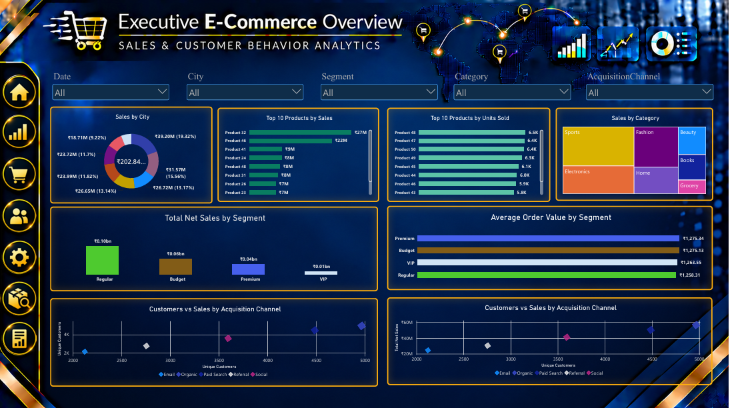

This screenshot's page, from the dashboard's own definition file:
{"tool":"powerbi","page":{"name":"Product & Customer Analytics -3","canvas":[1920,1080],"ordinal":2},"visuals":[{"type":"slicer","title":"123","fields":{"Values":["Dim_Date.Date"]},"box":[134.6,188.5,317.7,78.5],"z":0},{"type":"slicer","title":"123","fields":{"Values":["Dim_Customer.City"]},"box":[487.5,187.5,317.7,78.5],"z":1000},{"type":"slicer","title":"123","fields":{"Values":["Dim_Product.Category"]},"box":[1190,187.5,317.7,78.5],"z":2000},{"type":"slicer","title":"123","fields":{"Values":["Dim_Customer.Segment"]},"box":[840,187.5,317.7,78.5],"z":3000},{"type":"slicer","title":"123","fields":{"Values":["Dim_Customer.AcquisitionChannel"]},"box":[1537.5,187.5,345,77.5],"z":4000},{"type":"donutChart","title":"Sales by City","fields":{"Category":["Dim_Customer.City"],"Y":["Measures Table.Total Net Sales"]},"box":[133.6,281.3,427,255],"z":5000},{"type":"barChart","title":"Top 10 Products by Sales","fields":{"Category":["Dim_Product.ProductName"],"Y":["Measures Table.Total Net Sales"]},"box":[574.4,283.7,424.4,248.5],"z":6000},{"type":"barChart","title":"Top 10 Products by Units Sold","fields":{"Category":["Dim_Product.ProductName"],"Y":["Measures Table.Units Sold"]},"box":[1019.8,283.7,429,248.5],"z":7000},{"type":"treemap","title":"Sales by Category","fields":{"Group":["Dim_Product.Category"],"Values":["Measures Table.Total Net Sales"]},"box":[1463,283.7,414.3,245.7],"z":8000},{"type":"clusteredColumnChart","fields":{"Category":["Dim_Customer.Segment"],"Y":["Measures Table.Total Net Sales"]},"box":[133.6,543.9,862.8,222.7],"z":9000},{"type":"barChart","title":"Average Order Value by Segment","fields":{"Category":["Dim_Customer.Segment"],"Y":["Measures Table.AOV"]},"box":[1019.8,541.6,855.7,222.7],"z":10000},{"type":"scatterChart","title":"Customers vs Sales by Acquisition Channel","fields":{"Series":["Dim_Customer.AcquisitionChannel"],"Size":["Measures Table.Total Net Sales"],"X":["Measures Table.Unique Customers"],"Y":["Measures Table.Unique Customers"]},"box":[133.6,785.4,862.8,232.1],"z":11000},{"type":"scatterChart","title":"Customers vs Sales by Acquisition Channel","fields":{"Series":["Dim_Customer.AcquisitionChannel"],"Size":["Measures Table.Units Sold"],"X":["Measures Table.Unique Customers"],"Y":["Measures Table.Total Net Sales"]},"box":[1019.8,783.1,855,231.2],"z":12000},{"type":"image","box":[6,192.7,90.7,99.3],"z":13000},{"type":"image","box":[6,840.7,90.7,99.3],"z":14000},{"type":"image","box":[6,296.7,90.7,99.3],"z":15000},{"type":"image","box":[4.4,735.6,97.5,99.4],"z":16000},{"type":"image","box":[6,408,90.7,99.3],"z":17000},{"type":"image","box":[6,518,90.7,99.3],"z":18000},{"type":"image","box":[6,624,90.7,104.7],"z":19000}]}

Visuals, with their boxes in screenshot pixels (x1, y1, x2, y2), scaled from the page's 1920x1080 canvas onto the 729x408 screenshot:
"123" slicer: crop(51, 71, 172, 101)
"123" slicer: crop(185, 71, 306, 100)
"123" slicer: crop(452, 71, 572, 100)
"123" slicer: crop(319, 71, 440, 100)
"123" slicer: crop(584, 71, 715, 100)
"Sales by City" donutChart: crop(51, 106, 213, 203)
"Top 10 Products by Sales" barChart: crop(218, 107, 379, 201)
"Top 10 Products by Units Sold" barChart: crop(387, 107, 550, 201)
"Sales by Category" treemap: crop(555, 107, 713, 200)
clusteredColumnChart - Dim_Customer.Segment x Measures Table.Total Net Sales: crop(51, 205, 378, 290)
"Average Order Value by Segment" barChart: crop(387, 205, 712, 289)
"Customers vs Sales by Acquisition Channel" scatterChart: crop(51, 297, 378, 384)
"Customers vs Sales by Acquisition Channel" scatterChart: crop(387, 296, 712, 383)
image: crop(2, 73, 37, 110)
image: crop(2, 318, 37, 355)
image: crop(2, 112, 37, 150)
image: crop(2, 278, 39, 315)
image: crop(2, 154, 37, 192)
image: crop(2, 196, 37, 233)
image: crop(2, 236, 37, 275)
